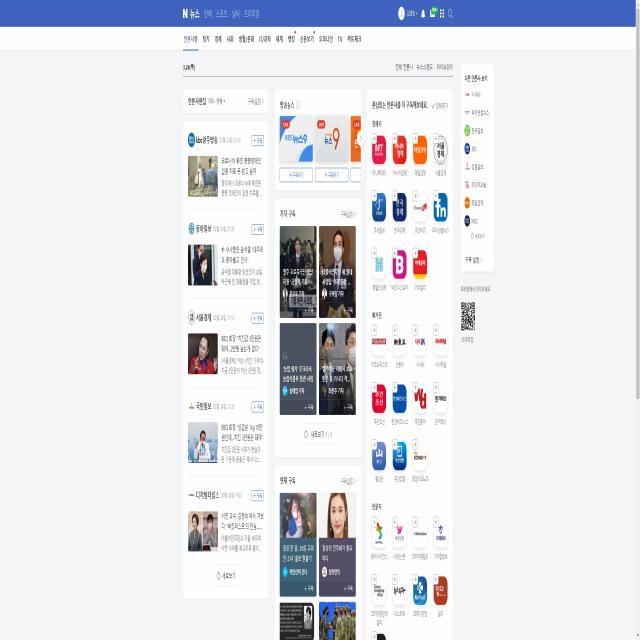menu-bar: (396, 2, 455, 25)
side-panel: (460, 57, 496, 367)
tab-bar: (183, 28, 362, 48), (180, 2, 263, 20)
